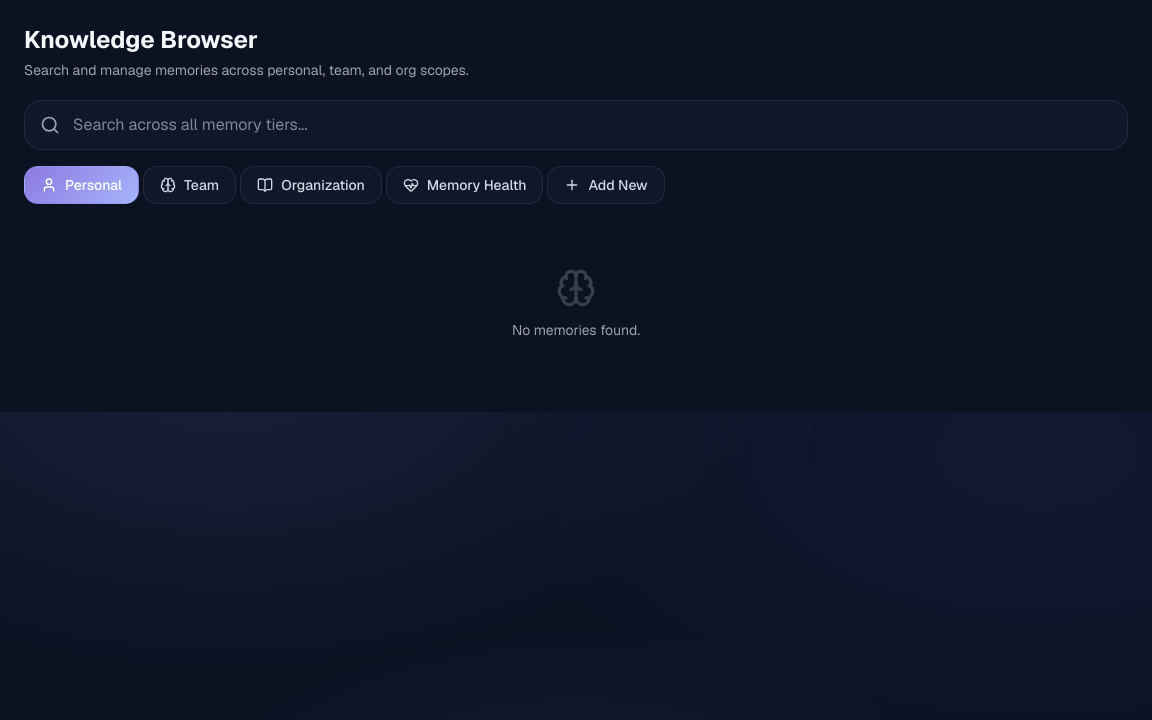
Scenario: KnowledgeBrowser Memory Health › renders empty memory health when backend returns null arrays
Click the button "Memory Health" at (465, 185), box [386, 166, 544, 204]
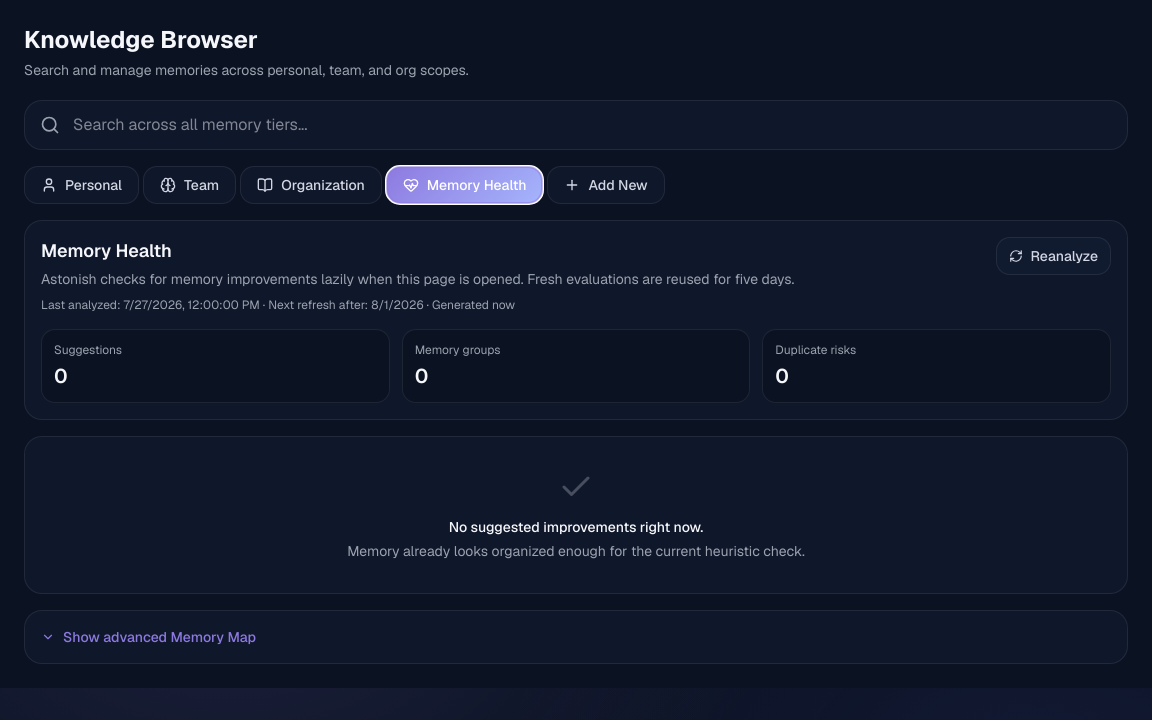
Check: the text "No suggested improvements right now." is shown, box [449, 518, 703, 536]
Check: the text "Memory groups" is shown, box [415, 342, 501, 358]
